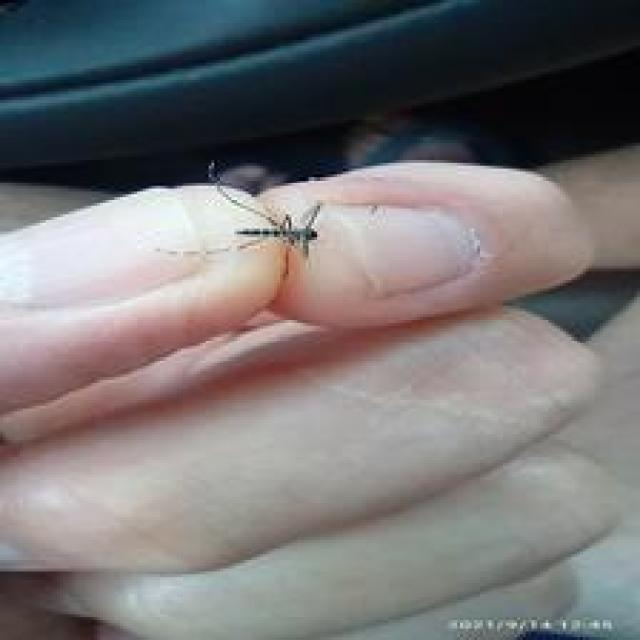Aedes albopictus: (154, 159, 326, 267)
